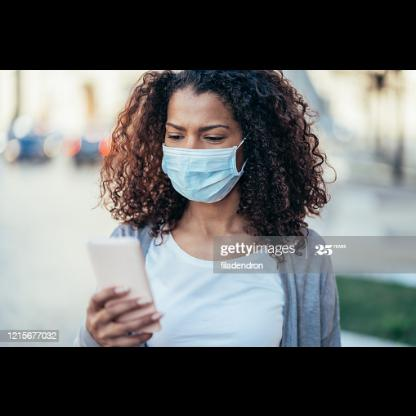Surgical Mask: (160, 97, 252, 199)
